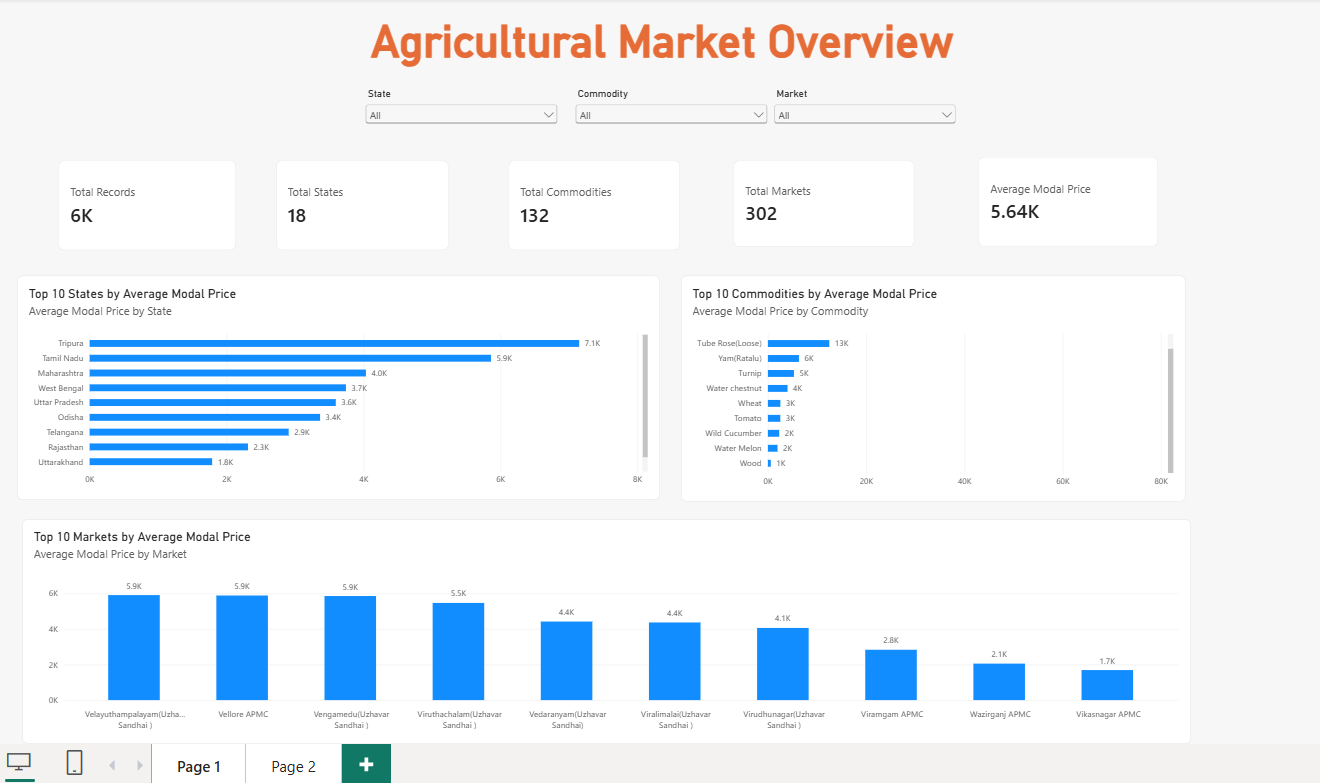

The page's visual inventory and layout, read from the dashboard file:
{"tool":"powerbi","page":{"name":"Page 1","canvas":[1920,1080],"ordinal":0},"visuals":[{"type":"cardVisual","fields":{"Data":["indian_agricultural_market_prices_cleaned(CSV).Total Records"]},"box":[90,235,257.5,130],"z":0},{"type":"cardVisual","fields":{"Data":["indian_agricultural_market_prices_cleaned(CSV).Total States"]},"box":[405,235,250,130],"z":1000},{"type":"cardVisual","fields":{"Data":["indian_agricultural_market_prices_cleaned(CSV).Total Commodities"]},"box":[742.5,235,248,130],"z":2000},{"type":"cardVisual","fields":{"Data":["indian_agricultural_market_prices_cleaned(CSV).Total Markets"]},"box":[1067.5,235,262.5,125],"z":3000},{"type":"cardVisual","fields":{"Data":["indian_agricultural_market_prices_cleaned(CSV).Average Modal Price"]},"box":[1422.5,230,260,130],"z":4000},{"type":"clusteredBarChart","title":"Top 10 States by Average Modal Price","fields":{"Category":["indian_agricultural_market_prices_cleaned(CSV).State"],"Y":["indian_agricultural_market_prices_cleaned(CSV).Average Modal Price"]},"box":[30,402.5,930,325],"z":5000},{"type":"clusteredBarChart","title":"Top 10 Commodities by Average Modal Price","fields":{"Category":["indian_agricultural_market_prices_cleaned(CSV).Commodity"],"Y":["indian_agricultural_market_prices_cleaned(CSV).Average Modal Price"]},"box":[992.5,402.5,730,327.5],"z":6000},{"type":"clusteredColumnChart","title":"Top 10 Markets by Average Modal Price","fields":{"Category":["indian_agricultural_market_prices_cleaned(CSV).Market"],"Y":["indian_agricultural_market_prices_cleaned(CSV).Average Modal Price"]},"box":[37.5,755,1691.7,325],"z":7000},{"type":"slicer","fields":{"Values":["indian_agricultural_market_prices_cleaned(CSV).Commodity"]},"box":[835,130,287.5,82.5],"z":7002},{"type":"slicer","fields":{"Values":["indian_agricultural_market_prices_cleaned(CSV).Market"]},"box":[1122.5,130,272.5,62.5],"z":7003},{"type":"textbox","box":[30,25,1867.5,105],"z":7004},{"type":"slicer","fields":{"Values":["indian_agricultural_market_prices_cleaned(CSV).State"]},"box":[530,130,287.5,82.5],"z":7005}]}

Visuals, with their boxes on the page's 1920x1080 design canvas (x1, y1, x2, y2). These are canvas units, not pixel positions in the 1320x783 screenshot, which may show the page scaled, cropped or inside an application window:
cardVisual - indian_agricultural_market_prices_cleaned(CSV).Total Records: pyautogui.locateOnScreen(90, 235, 348, 365)
cardVisual - indian_agricultural_market_prices_cleaned(CSV).Total States: pyautogui.locateOnScreen(405, 235, 655, 365)
cardVisual - indian_agricultural_market_prices_cleaned(CSV).Total Commodities: pyautogui.locateOnScreen(742, 235, 990, 365)
cardVisual - indian_agricultural_market_prices_cleaned(CSV).Total Markets: pyautogui.locateOnScreen(1068, 235, 1330, 360)
cardVisual - indian_agricultural_market_prices_cleaned(CSV).Average Modal Price: pyautogui.locateOnScreen(1422, 230, 1682, 360)
"Top 10 States by Average Modal Price" clusteredBarChart: pyautogui.locateOnScreen(30, 402, 960, 728)
"Top 10 Commodities by Average Modal Price" clusteredBarChart: pyautogui.locateOnScreen(992, 402, 1722, 730)
"Top 10 Markets by Average Modal Price" clusteredColumnChart: pyautogui.locateOnScreen(38, 755, 1729, 1080)
slicer - indian_agricultural_market_prices_cleaned(CSV).Commodity: pyautogui.locateOnScreen(835, 130, 1122, 212)
slicer - indian_agricultural_market_prices_cleaned(CSV).Market: pyautogui.locateOnScreen(1122, 130, 1395, 192)
textbox: pyautogui.locateOnScreen(30, 25, 1898, 130)
slicer - indian_agricultural_market_prices_cleaned(CSV).State: pyautogui.locateOnScreen(530, 130, 818, 212)
